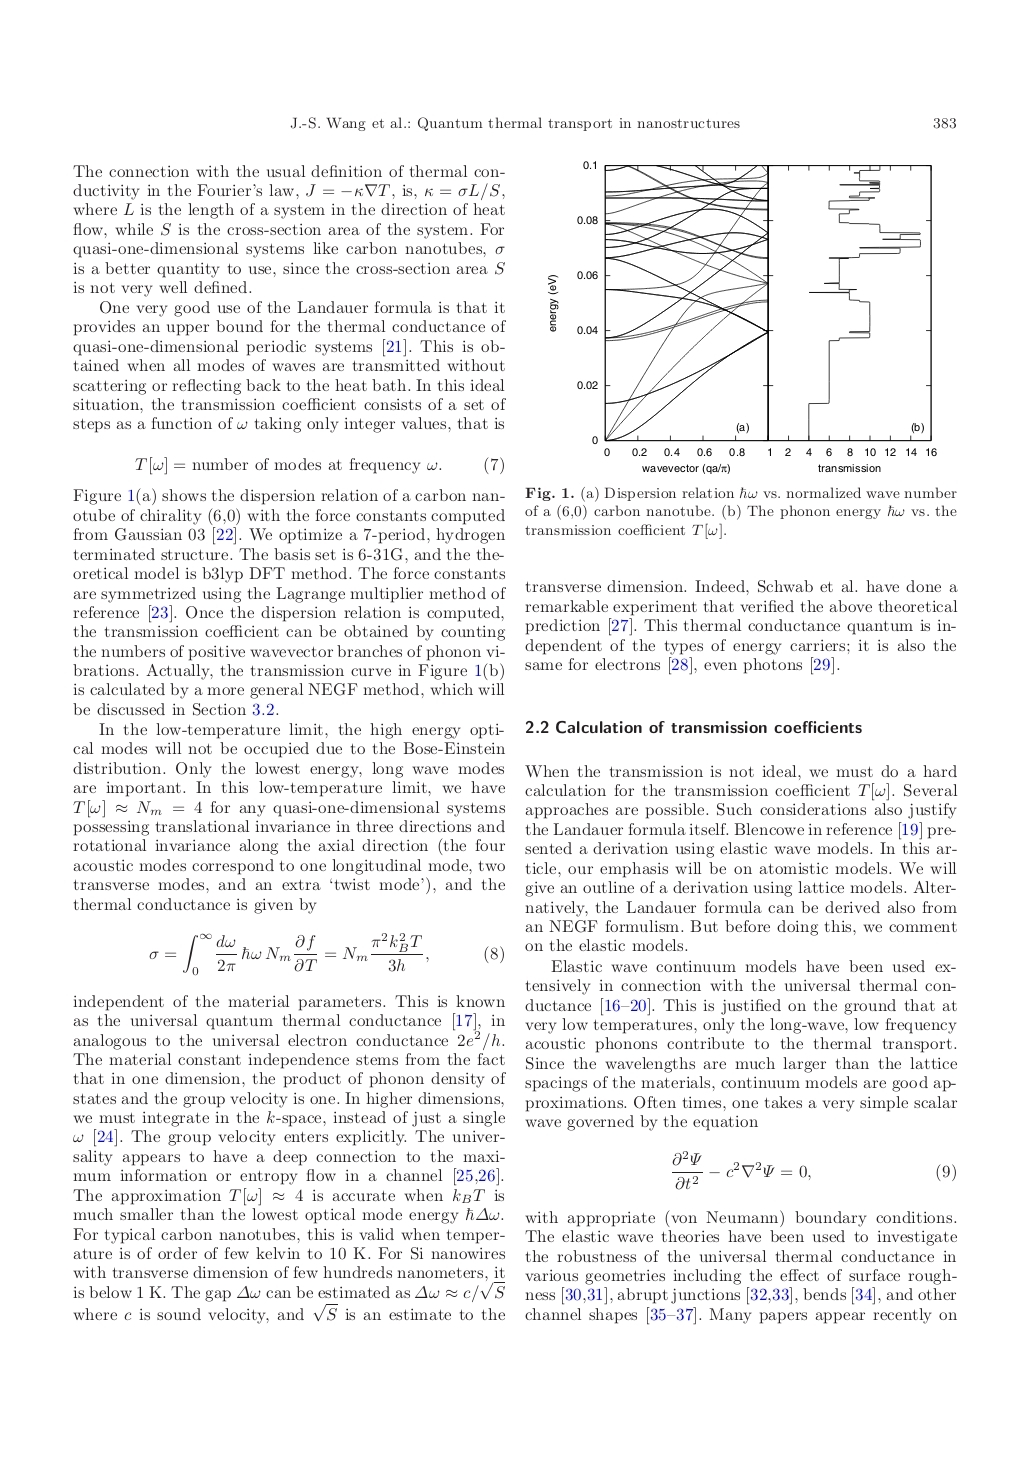figure: (548, 161, 936, 473)
formula: (150, 933, 503, 976), (672, 1150, 955, 1190)
